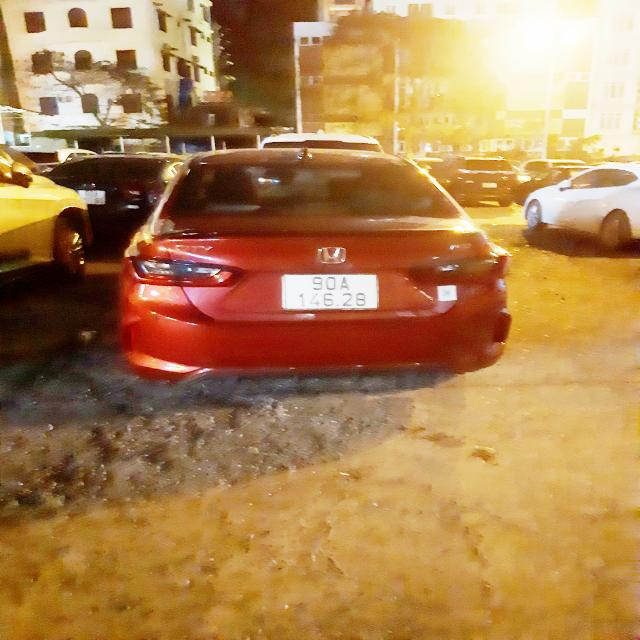license_plate: (274, 271, 390, 316)
